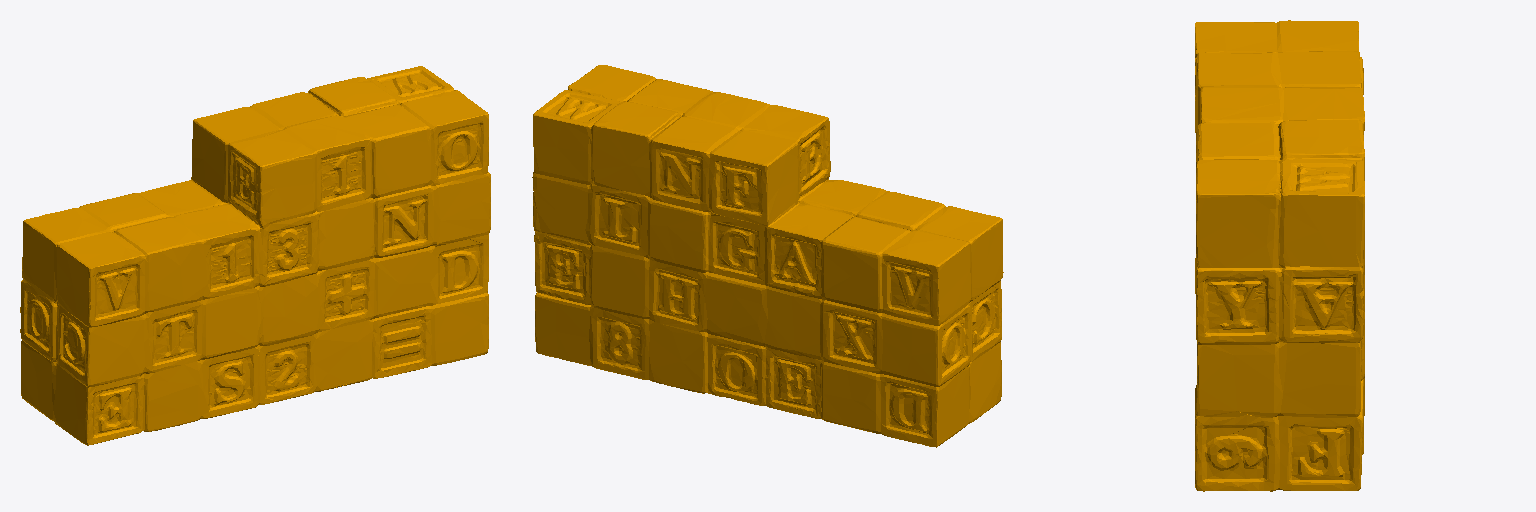
The robot description file, URDF, robot "Wooden_ABC_123_Blocks_50_pack":

<robot name="Wooden_ABC_123_Blocks_50_pack">
    <link name="base">
        <inertial>
            <origin xyz="-5.76305898130524e-18 5.660147213781932e-19 -1.2761059172890172e-17" />
            <mass value="0.0013717785756982893" />
            <inertia ixx="1.889652306556301e-06" ixy="-3.6498268825212024e-09" 
                     ixz="-4.6788473495653403e-07" iyy="6.403056705808942e-06" 
                     iyz="1.6124650948426226e-09" izz="5.339853717816615e-06" />
        </inertial>
        <visual>
            <origin xyz="0 0 0" />
            <geometry>
                <mesh filename="visual_geometry.obj" />
            </geometry>
        </visual>
        <collision>
            <origin xyz="0 0 0" />
            <geometry>
                <mesh filename="collision_geometry.obj" />
            </geometry>
        </collision>
    </link>
</robot>

--- Facts derived from the render (not from the file) ---
Views: 3 orthographic renders of the robot side by side, from view 1: azimuth 30°, elevation 25°; view 2: azimuth 150°, elevation 25°; view 3: azimuth 270°, elevation 25°.
Model Wooden_ABC_123_Blocks_50_pack with 1 links and 0 joints (none), rooted at base, posed every joint at zero.
Visible links, largest first — view 1: base; view 2: base; view 3: base.
Link boxes in pixels (x1,y1,x2,y2): base: (20,66,490,445); base: (532,65,1003,447); base: (1195,20,1364,491).
Size in the robot's own frame: 0.2139 by 0.0626 by 0.1232 metres.
Meshes: 1 distinct files referenced, 1 mesh visuals loaded (1 OBJ).